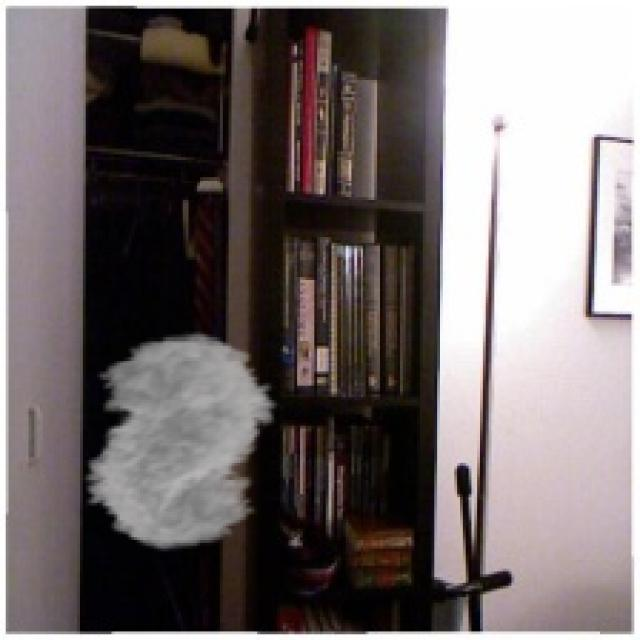smoke: (60, 332, 294, 552)
